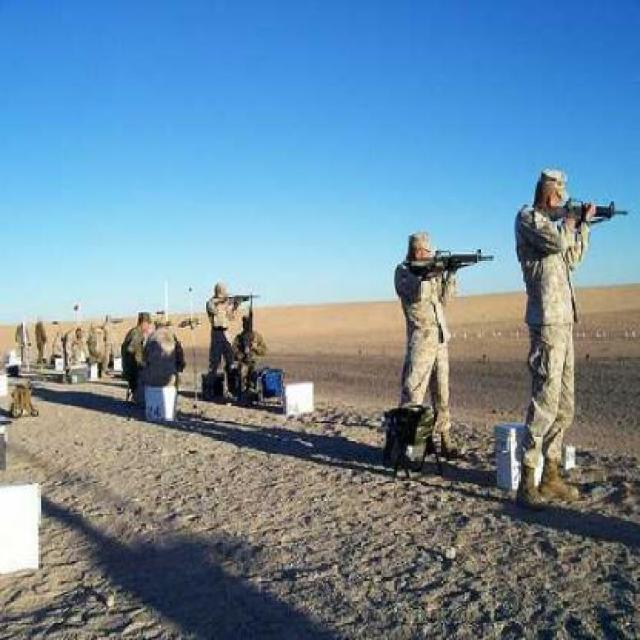weapon: (536, 195, 631, 235), (412, 251, 492, 289)
